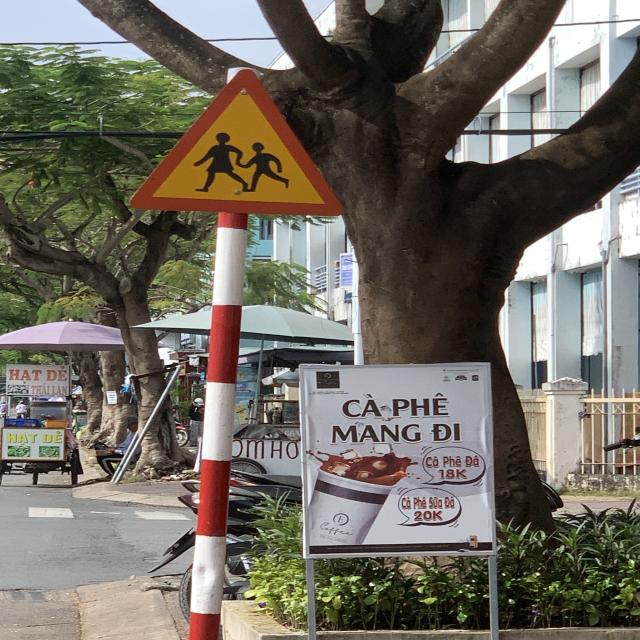Vong_Xuyen: (131, 70, 343, 218)
